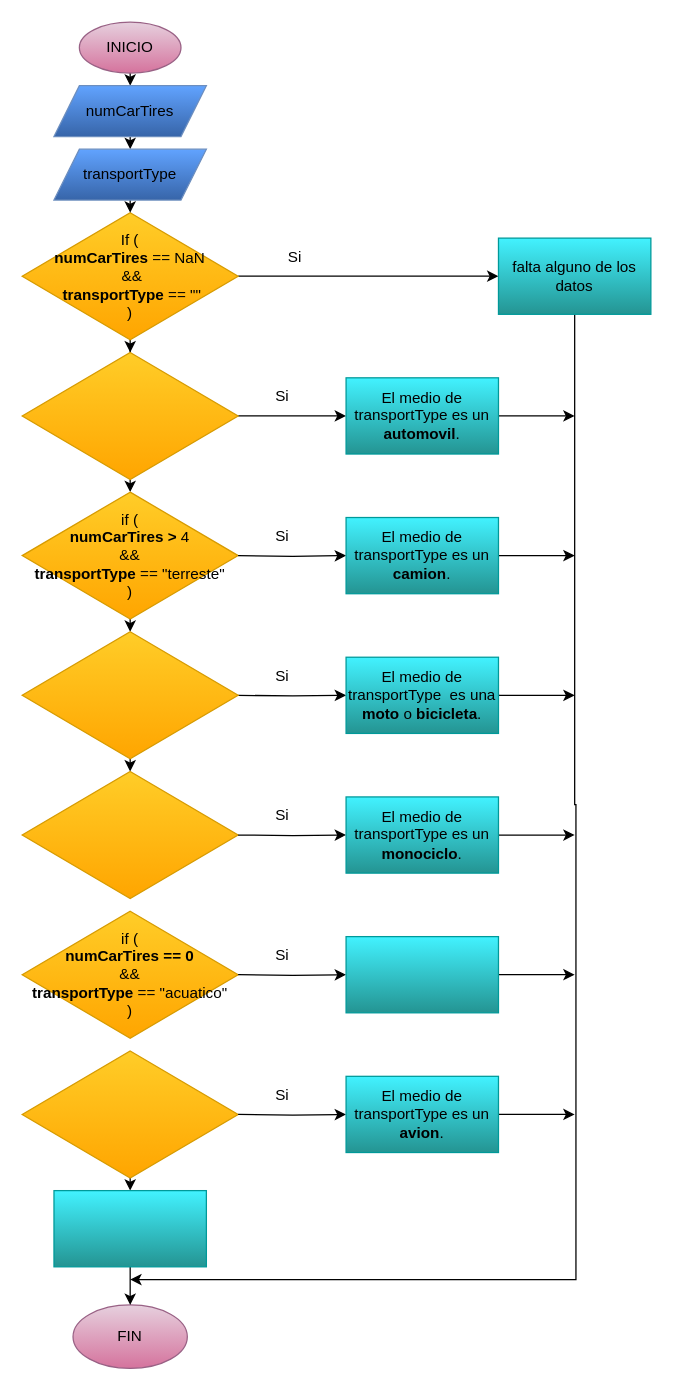
This 673x1391 diagram has some shape labels left out. Each missing label, with the centre of its shape:
El medio de transportType es un barco .: pixel 421 974
if ( numCarTires == 1 && transportType == "terreste" ): pixel 129 834
if ( numCarTires == 2 && transportType == "terreste" ): pixel 129 695
if ( numCarTires == 20 && transportType == "aereo" ): pixel 129 1114
if ( numCarTires == 4 && transportType == "terreste" ): pixel 129 415
No se pudo identificar el medio de transporte.: pixel 129 1228
